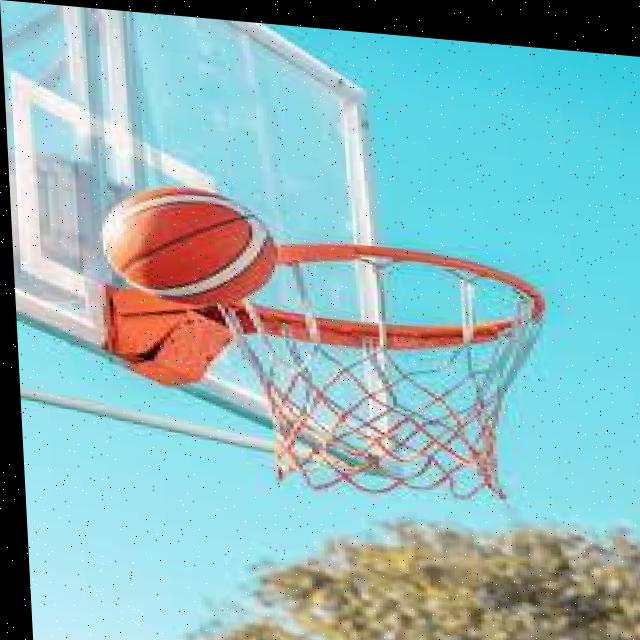basketball: (100, 180, 277, 309)
hoop: (228, 233, 555, 506)
